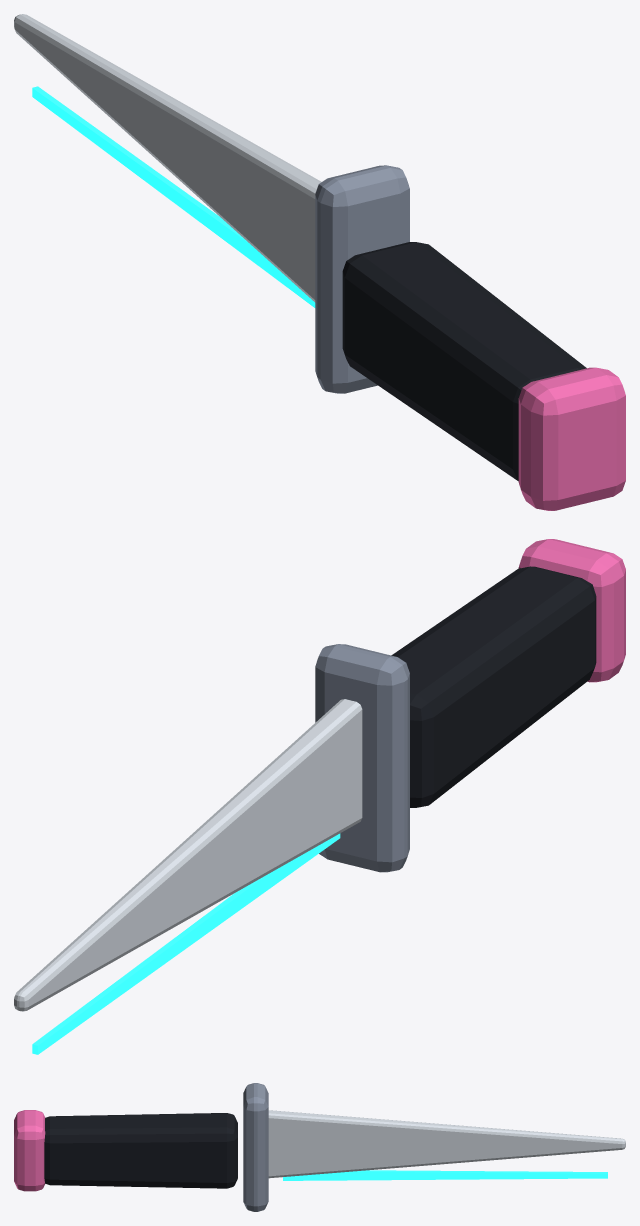
File: knife.glb
3 renders of one model, top to bottom at view 1: azimuth 30°, elevation 25°; view 2: azimuth 150°, elevation 25°; view 3: azimuth 270°, elevation 25°, orthographic. The views are drawn at different scales.
Visible parts, largest first — view 1: handle, blade, pommel, guard, edge; view 2: handle, blade, guard, pommel, edge; view 3: blade, handle, guard, edge, pommel.
Part boxes in pixels (box(x1,y1,x2,y2)): handle: box(342, 242, 586, 481); blade: box(14, 14, 321, 302); pommel: box(518, 367, 625, 510); guard: box(315, 165, 409, 393); edge: box(32, 86, 315, 307); handle: box(391, 566, 596, 807); blade: box(14, 699, 362, 1011); guard: box(315, 644, 409, 872); pommel: box(518, 539, 625, 682); edge: box(32, 833, 340, 1054); blade: box(268, 1110, 625, 1178); handle: box(44, 1113, 237, 1188); guard: box(243, 1083, 268, 1211); edge: box(283, 1170, 607, 1180); pommel: box(14, 1110, 45, 1191).
Bounding box in the file's own units: 0.032 × 0.07 × 0.339.
